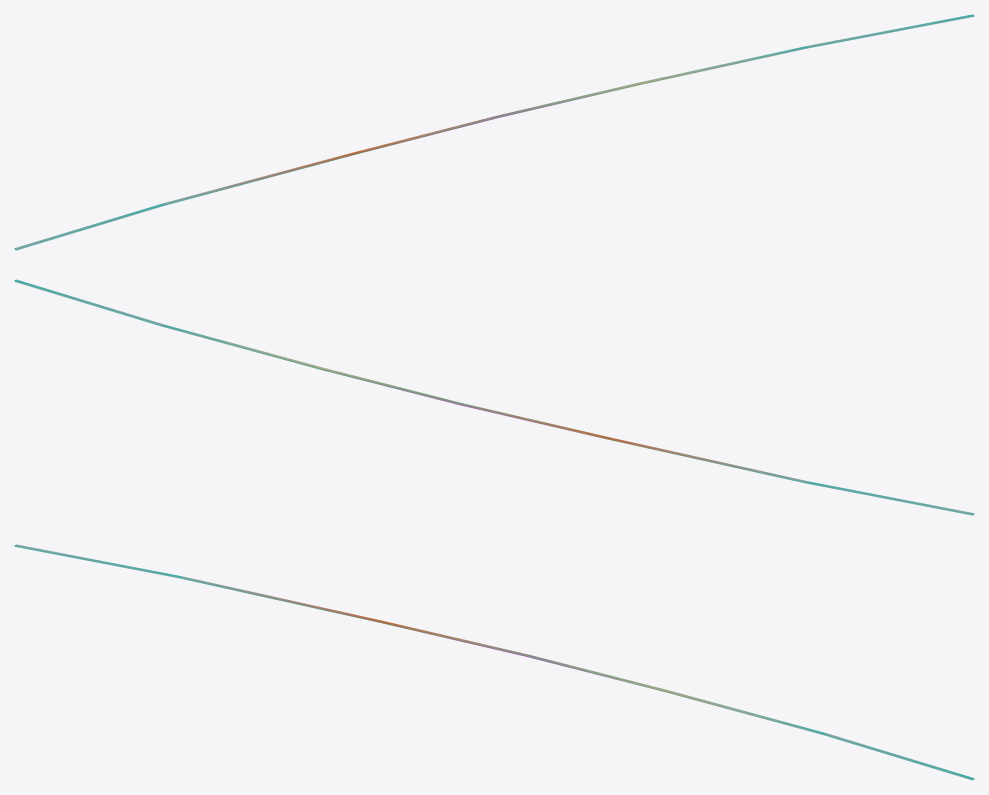
File: Flag_Horizontal_Rope.glb
3 views of the same model, one above another, from view 1: azimuth 30°, elevation 25°; view 2: azimuth 150°, elevation 25°; view 3: azimuth 330°, elevation 25° (orthographic).
Parts seen in each view (by area): view 1: MeshNode_0; view 2: MeshNode_0; view 3: MeshNode_0.
Boxes of the visible parts, <box> form: MeshNode_0: <box>14,14,974,250</box>; MeshNode_0: <box>14,279,974,515</box>; MeshNode_0: <box>14,544,974,780</box>.
Size of the model in its own units: 64.26 by 0.0433 by 2.02.
